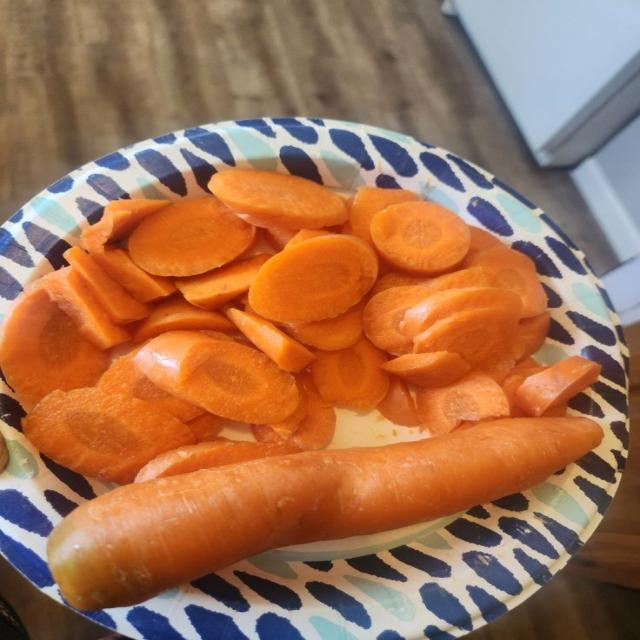carrot: (48, 418, 602, 609), (22, 388, 194, 483), (135, 332, 299, 423), (0, 285, 109, 409), (249, 235, 378, 322), (128, 197, 256, 276), (208, 169, 347, 228), (96, 348, 204, 422), (40, 267, 130, 349), (371, 202, 470, 275), (64, 247, 151, 324), (135, 441, 298, 482), (414, 309, 518, 369), (416, 370, 509, 435), (400, 288, 521, 337), (463, 246, 546, 317), (311, 338, 389, 412), (227, 308, 315, 372), (175, 254, 270, 309), (514, 356, 601, 416), (363, 286, 437, 354), (253, 393, 336, 450), (81, 199, 170, 252), (92, 246, 176, 302), (134, 295, 234, 342), (345, 186, 420, 243), (284, 300, 365, 350), (252, 380, 308, 442), (382, 351, 470, 386), (287, 391, 336, 450), (501, 365, 546, 416), (502, 366, 546, 417), (377, 376, 419, 427), (424, 266, 497, 290), (515, 311, 550, 360), (369, 272, 428, 297), (467, 226, 504, 257), (186, 412, 224, 442), (286, 229, 330, 248), (261, 228, 297, 251), (195, 329, 250, 344), (514, 356, 539, 369), (0, 439, 8, 472)
